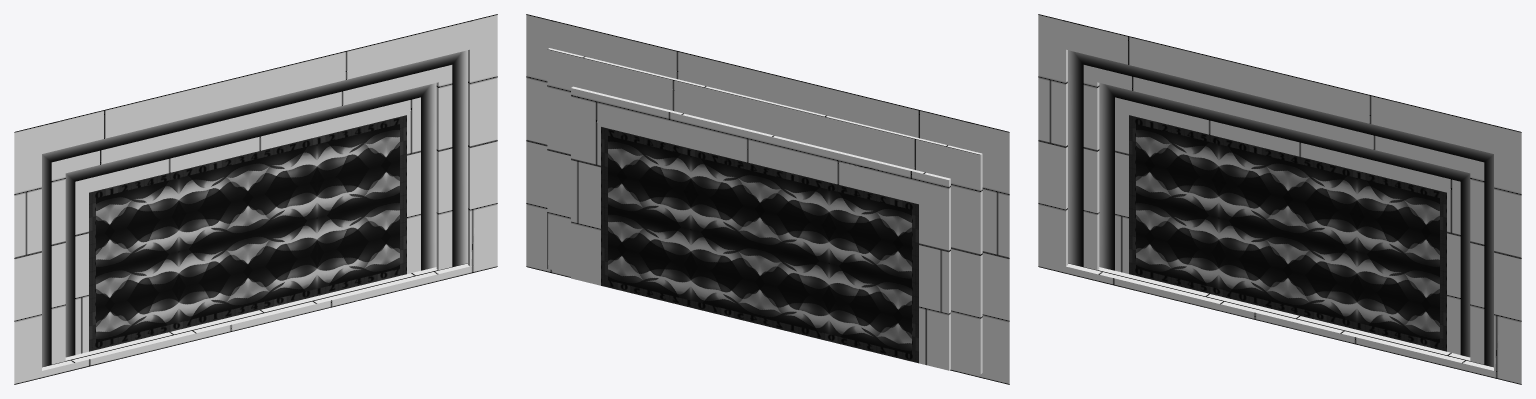
File: WallNiche02_5_700x350cm.FBX
The picture shows the model from 3 angles, left to right: view 1: azimuth 30°, elevation 25°; view 2: azimuth 150°, elevation 25°; view 3: azimuth 330°, elevation 25°; orthographic projection.
Visible parts, largest first — view 1: Wall, Backlight; view 2: Wall; view 3: Wall, Backlight.
Part boxes in pixels (box(x1,y1,x2,y2)): Wall: box(14, 14, 497, 384); Backlight: box(42, 50, 467, 366); Wall: box(526, 14, 1009, 384); Wall: box(1038, 14, 1521, 384); Backlight: box(1068, 50, 1493, 366).
Bounding box in the file's own units: 700 × 350 × 20.
